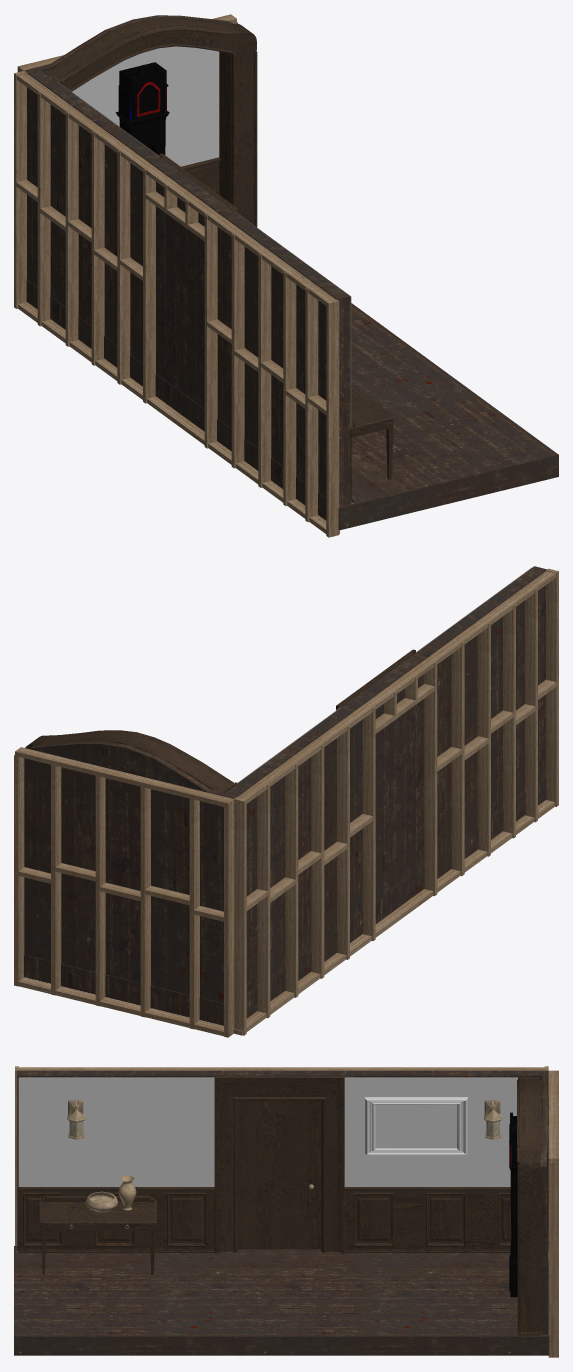
The picture shows the model from 3 angles, top to bottom: view 1: azimuth 30°, elevation 25°; view 2: azimuth 150°, elevation 25°; view 3: azimuth 270°, elevation 25°; orthographic projection. The views are drawn at different scales.
Parts seen in each view (by area): view 1: Wall2, pCube1, Wall1, Wall, WallSupportsBeams1, WallSupportsBeams, WallSupportsBeams3, MercadoProp1:Clock, WallSupportsBeams17, WallSupportsBeams24, WallSupportsBeams23, WallSupportsBeams22 (+9 smaller); view 2: Wall2, pCube1, WallSupportsBeams1, WallSupportsBeams, Wall1, WallSupportsBeams2, WallSupportsBeams13, WallSupportsBeams23, WallSupportsBeams22, WallSupportsBeams24, WallSupportsBeams17, WallSupportsBeams12 (+14 smaller); view 3: pCube1, Wall1, Door, Wall2, Painting, SideTable, WoodDesign2, WoodDesign3, WoodDesign4, WallSupportsBeams4, WallSupportsBeams1, WoodDesign (+9 smaller).
Part boxes in pixels (x1,y1,x2,y2): Wall2: (24,15,350,506); pCube1: (26,279,558,530); Wall1: (44,18,354,501); Wall: (72,46,220,194); WallSupportsBeams1: (17,73,335,305); WallSupportsBeams: (18,302,339,533); WallSupportsBeams3: (326,299,339,537); MercadoProp1:Clock: (115,62,169,154); WallSupportsBeams17: (231,234,244,468); WallSupportsBeams24: (37,92,50,326); WallSupportsBeams23: (65,112,78,346); WallSupportsBeams22: (91,131,104,365); Wall2: (24,566,546,1003); pCube1: (24,777,546,1025); WallSupportsBeams1: (237,571,555,803); WallSupportsBeams: (233,800,554,1035); Wall1: (25,567,531,792); WallSupportsBeams2: (234,797,246,1035); WallSupportsBeams13: (424,661,437,895); WallSupportsBeams23: (285,763,298,997); WallSupportsBeams22: (311,744,324,978); WallSupportsBeams24: (257,783,270,1018); WallSupportsBeams17: (451,641,464,875); WallSupportsBeams12: (362,706,375,940); pCube1: (14,1246,549,1355); Wall1: (18,1077,542,1335); Door: (214,1076,344,1253); Wall2: (17,1070,549,1334); Painting: (365,1097,467,1154); SideTable: (39,1195,156,1274); WoodDesign2: (167,1192,206,1246); WoodDesign3: (354,1192,393,1246); WoodDesign4: (426,1192,465,1246); WallSupportsBeams4: (548,1162,558,1357); WallSupportsBeams1: (19,1067,544,1070); WoodDesign: (23,1192,62,1246).
Bounding box in the file's own units: 1.09 × 1.18 × 2.64.
